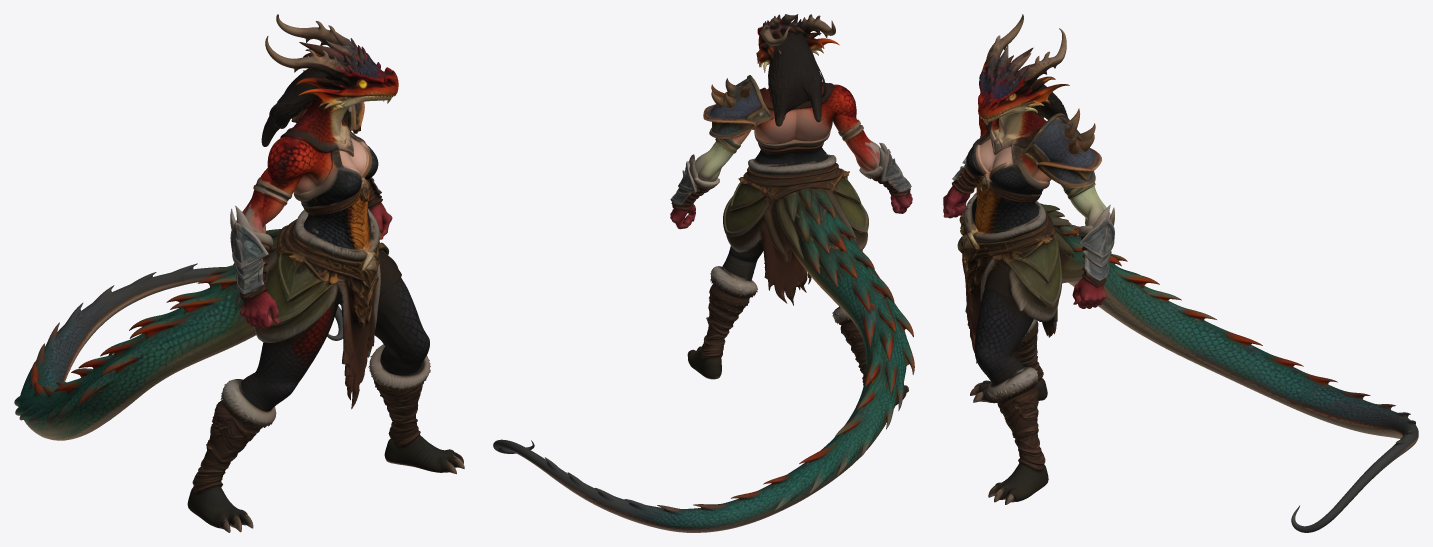
Rendered from dragonborn_barbarian_full_female_01.glb.
3 views of the same model, side by side, from view 1: azimuth 30°, elevation 25°; view 2: azimuth 150°, elevation 25°; view 3: azimuth 270°, elevation 25° (orthographic). The views are drawn at different scales.
Parts seen in each view (by area): view 1: material; view 2: material; view 3: material.
Boxes of the visible parts, x1,y1,x2,y2 form: material: (14, 14, 464, 532); material: (493, 14, 914, 532); material: (943, 14, 1418, 532).
Bounding box in the file's own units: 0.7384 × 0.8735 × 0.8804.
Materials: 1 (1 with a texture image).
